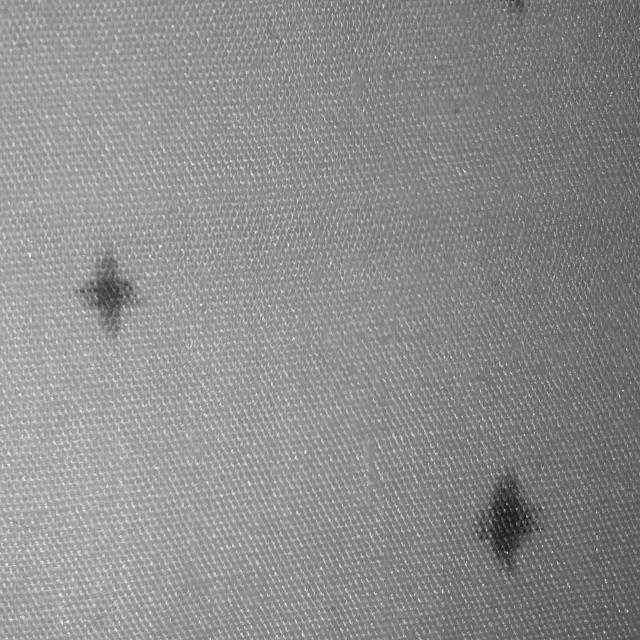Stain: (475, 468, 544, 568), (76, 249, 141, 335), (506, 0, 533, 26)
